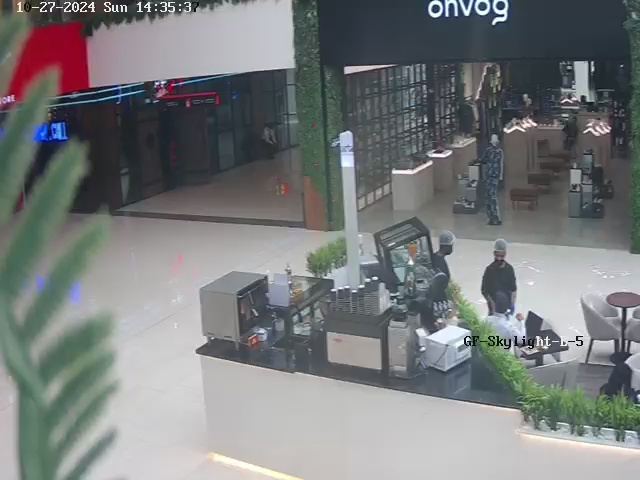employee: (481, 237, 518, 315), (481, 133, 504, 226), (432, 230, 456, 281)
male: (468, 291, 536, 368)
